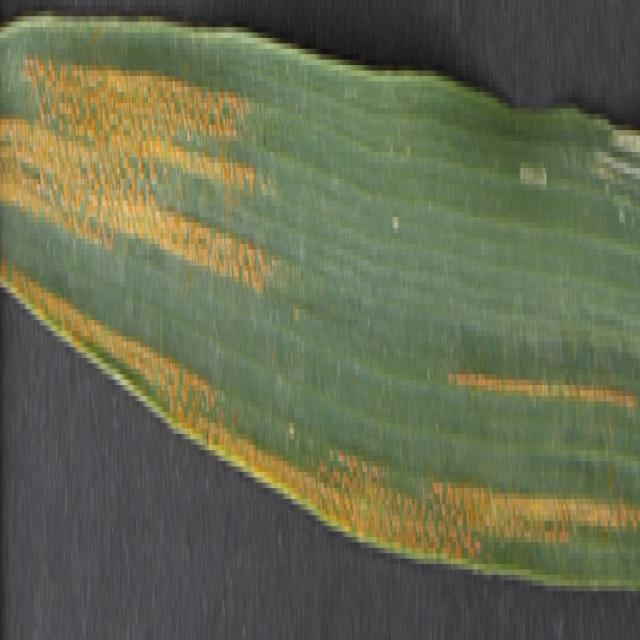leaf rust: (242, 336, 636, 553), (0, 5, 272, 298), (53, 293, 239, 461)
